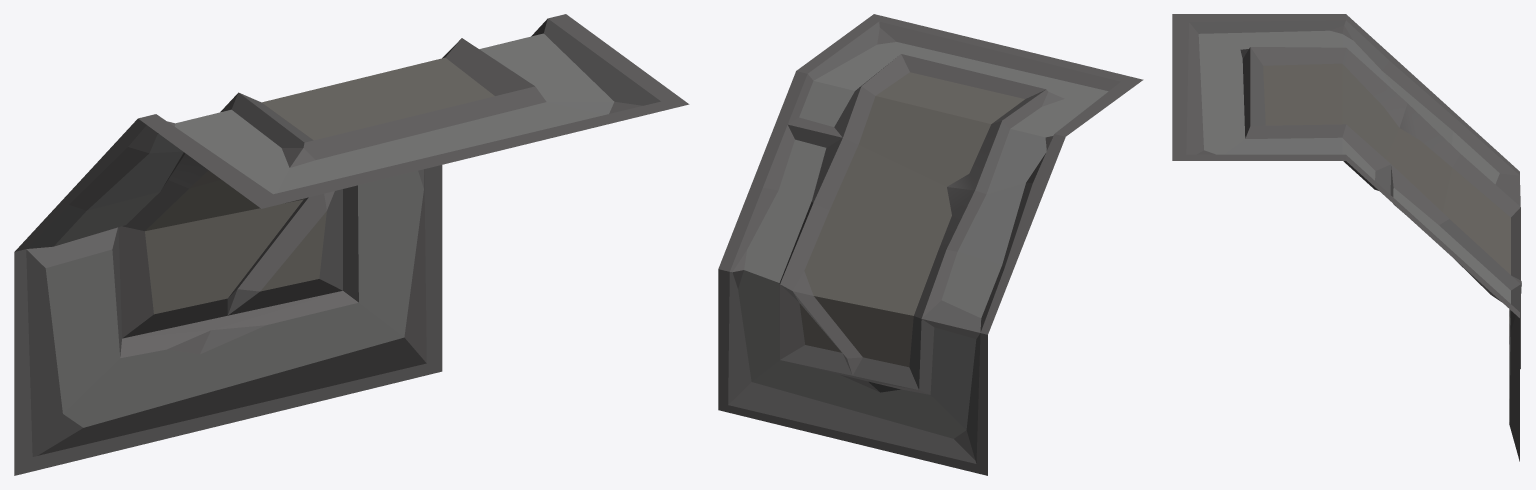
File: SM_Env_Ceiling_Stone_Curved_03.FBX
The picture shows the model from 3 angles, left to right: view 1: azimuth 30°, elevation 25°; view 2: azimuth 150°, elevation 25°; view 3: azimuth 270°, elevation 25°; orthographic projection. The views are drawn at different scales.
Parts seen in each view (by area): view 1: SM_Env_Ceiling_Stone_Curved_03; view 2: SM_Env_Ceiling_Stone_Curved_03; view 3: SM_Env_Ceiling_Stone_Curved_03.
Part boxes in pixels (<box>): SM_Env_Ceiling_Stone_Curved_03: <box>14,14,689,475</box>; SM_Env_Ceiling_Stone_Curved_03: <box>718,14,1143,475</box>; SM_Env_Ceiling_Stone_Curved_03: <box>1172,14,1521,461</box>.
Size of what is drawn, in the model's own units: 500 by 503 by 502.
